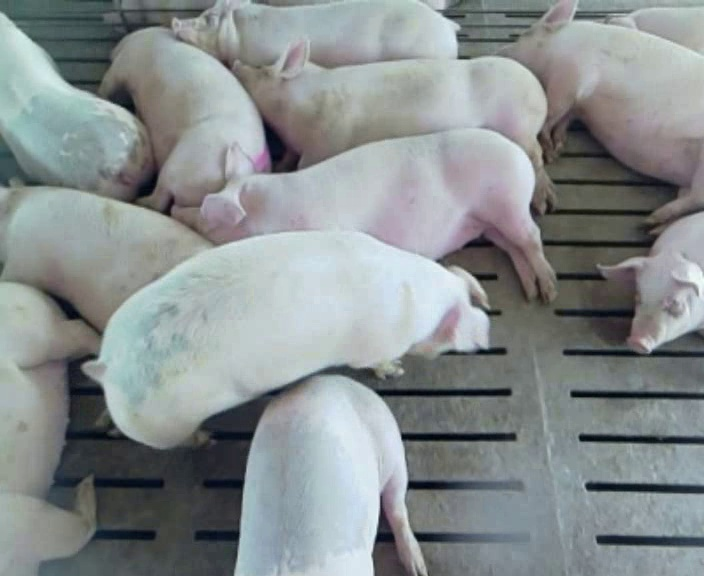pig: (83, 231, 487, 447), (173, 129, 555, 301), (233, 40, 553, 212), (501, 3, 703, 232), (235, 375, 426, 574), (99, 27, 269, 210), (172, 2, 456, 66), (598, 211, 703, 353), (606, 7, 703, 53)
